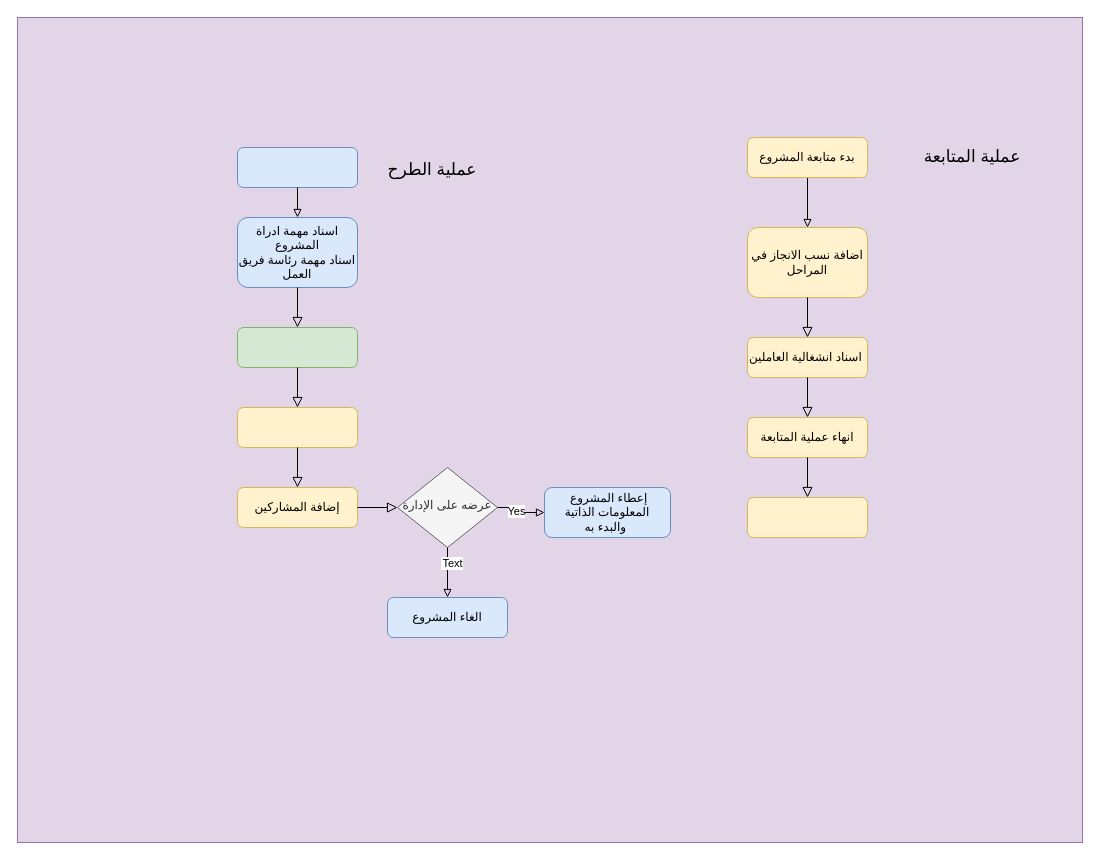
This 1100x860 diagram has some shape labels left out. Each missing label, with the box of its shape:
إصدار تقرير المتابعة: (746, 496, 868, 538)
إضافة مراحل العمل: (236, 406, 358, 448)
إضافة معلومات المشروع (مالية , جدوى ,تصنيف): (236, 326, 358, 368)
طرح فكرة المشروع: (236, 146, 358, 188)
